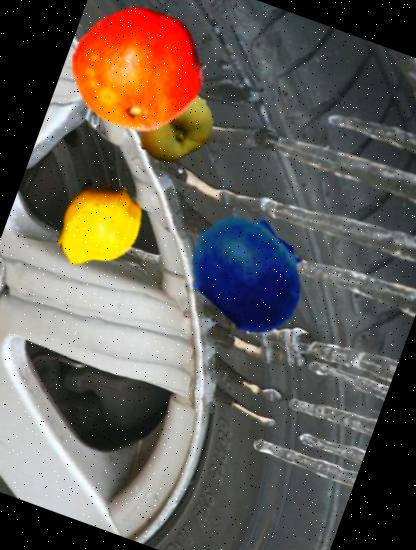Clementine: (52, 0, 225, 155)
Huckleberry: (170, 194, 328, 352)
Peach: (122, 74, 226, 177)
Quince: (39, 168, 158, 286)
